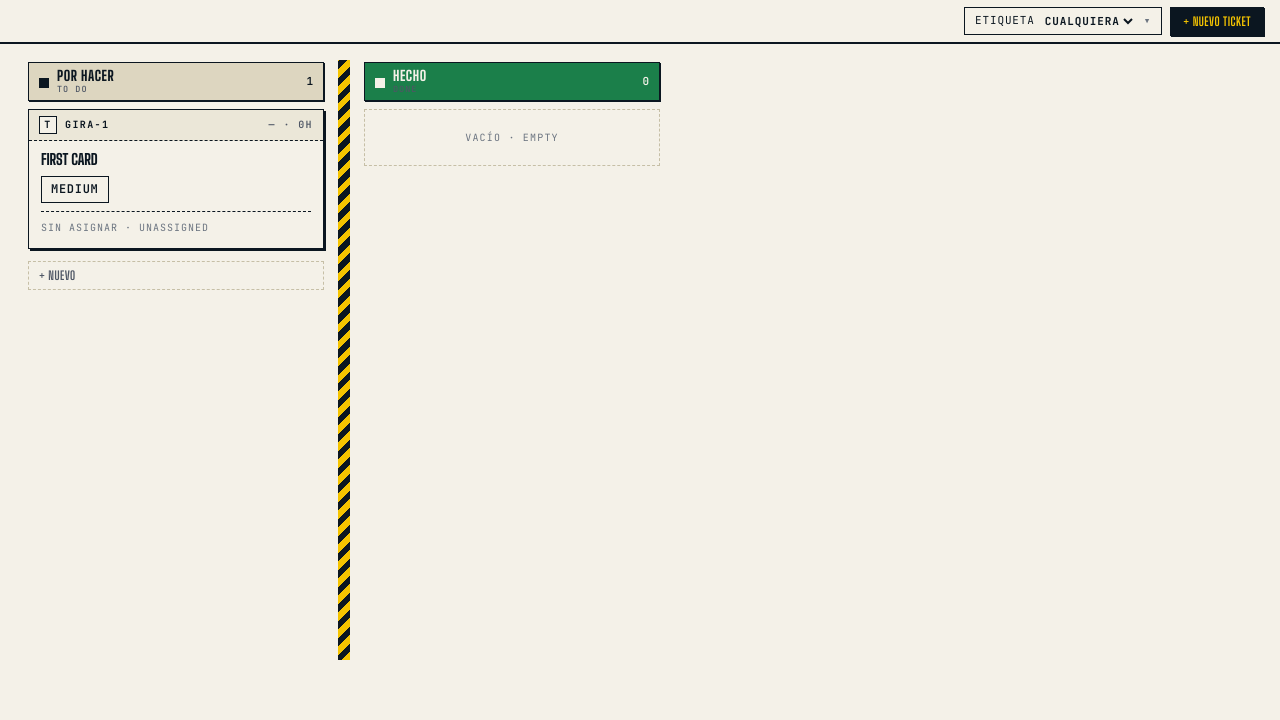
Test case: BoardPage › opens the create modal pre-set to a column via its "+ Nuevo" button
Expected: the text "First card" is shown, [41,150,98,168]
Click the button "+ Nuevo".
click(57, 275)  # box [28,261,324,290]
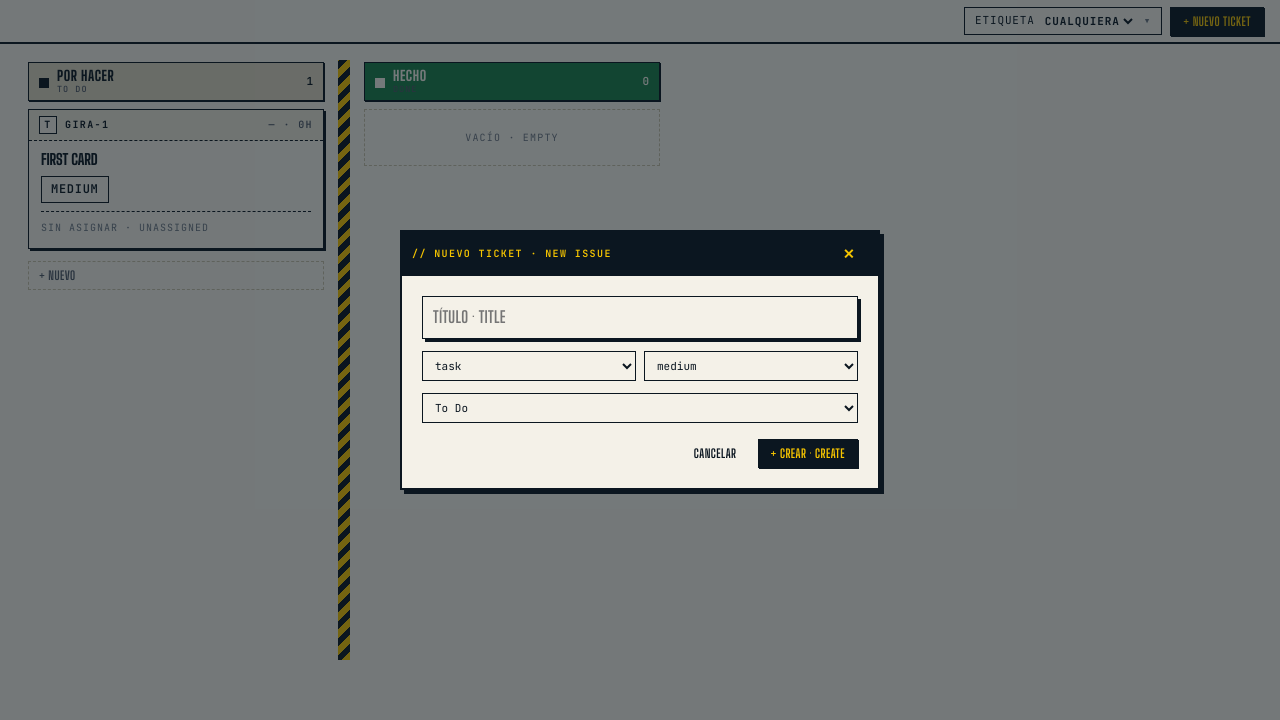
Now the 3rd dropdown shows "To Do", box [422,393,858,423]
